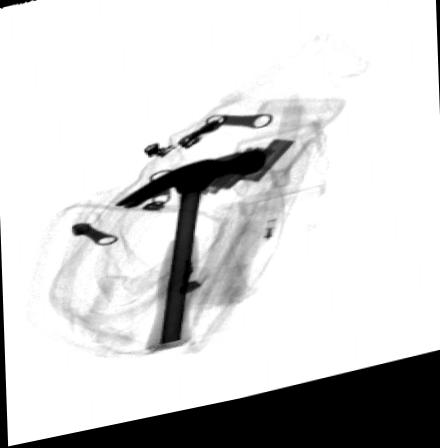Hammer: (114, 160, 266, 359)
